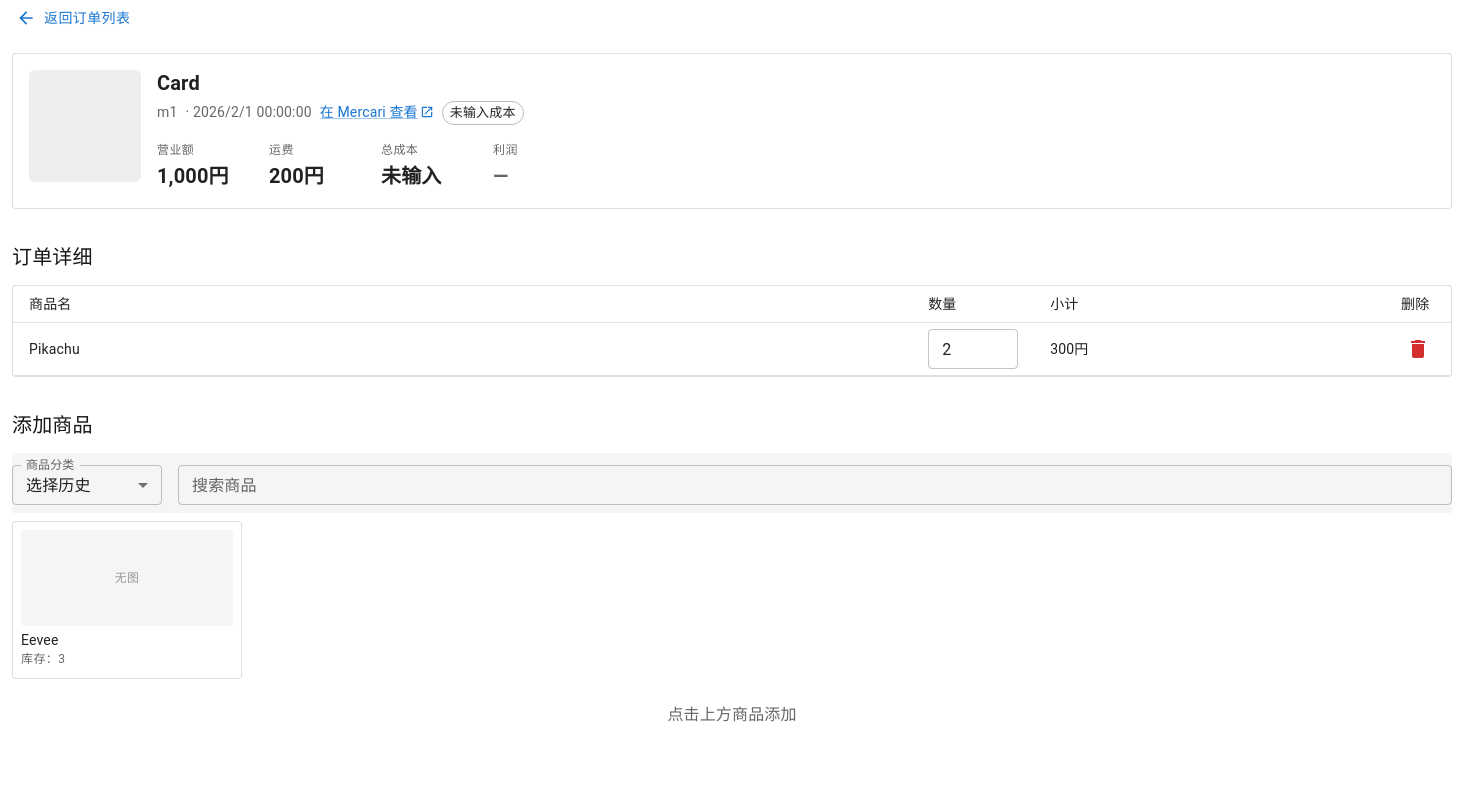
Test case: Order page › ignores an older reload that ends after a newer one
Expected: the heading "Card" is shown, [157, 70, 200, 94]
Replace the text in the number field named "Pikachu 数量" with "3". click: (973, 349)
box: [928, 329, 1018, 369]
Then press Enter
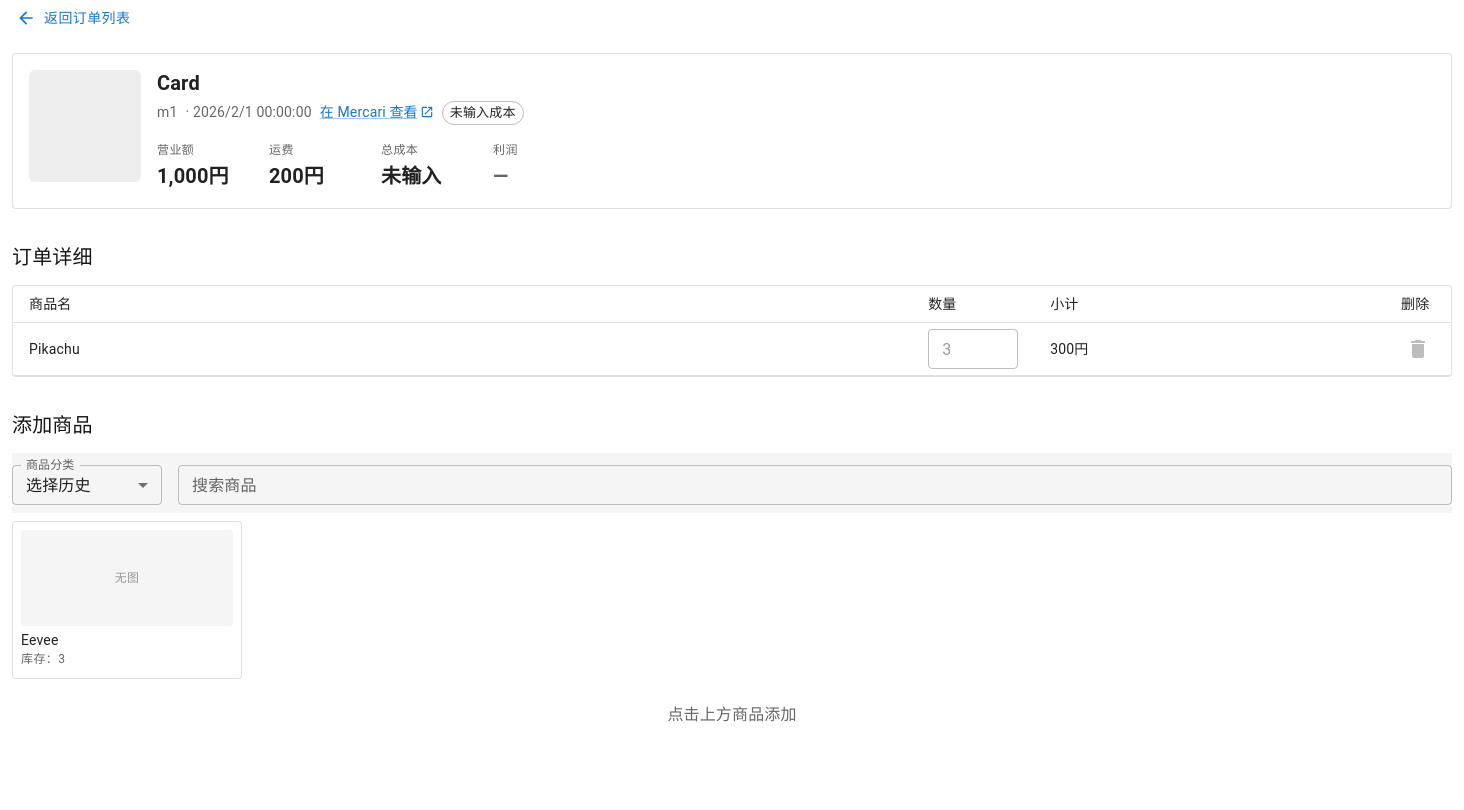
Click the text "Eevee". click: (40, 640)
box: [21, 632, 58, 648]
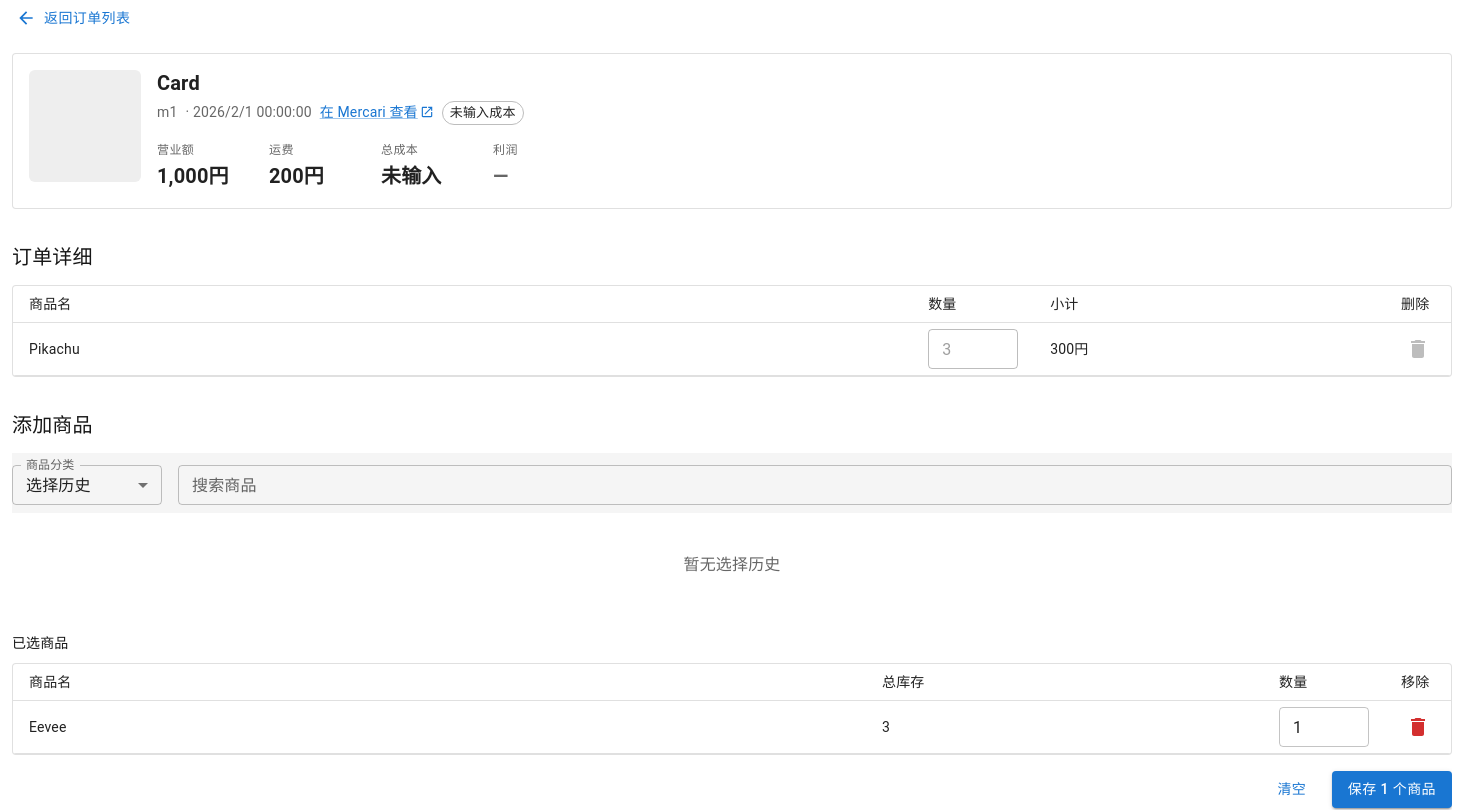
Click the button "保存 1 个商品". click: (1392, 790)
box: [1332, 771, 1452, 808]
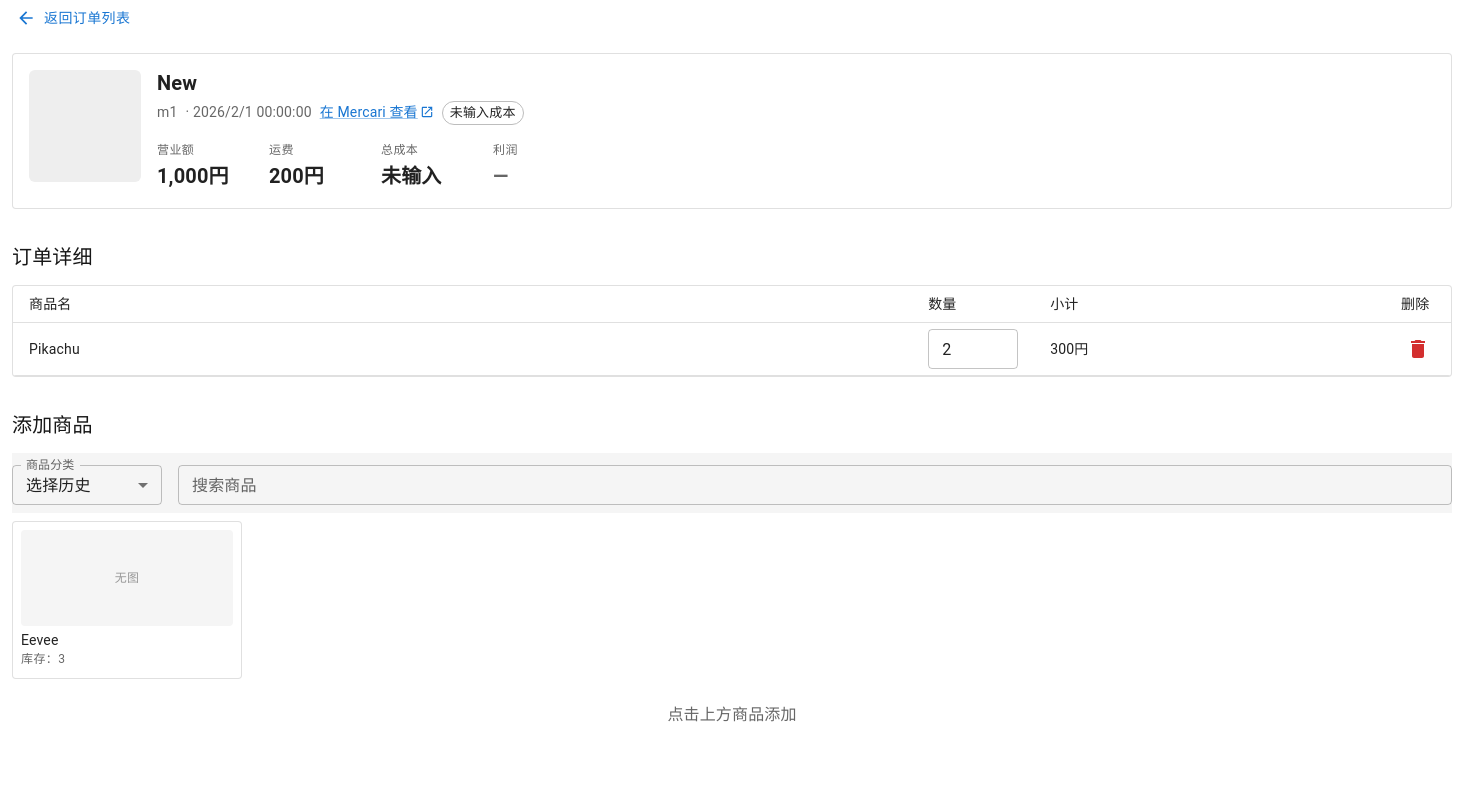
Now the heading "New" is shown, box [157, 70, 197, 94]
